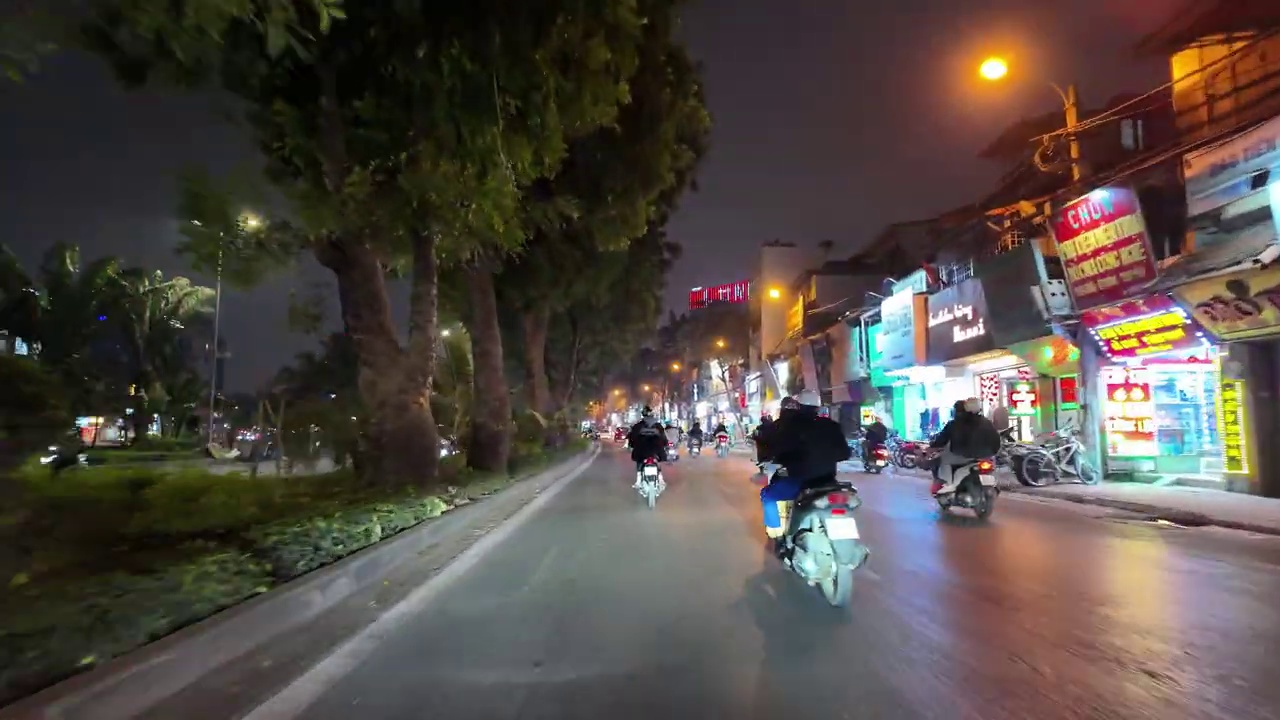acesa: (972, 49, 1017, 90), (762, 280, 791, 308)
